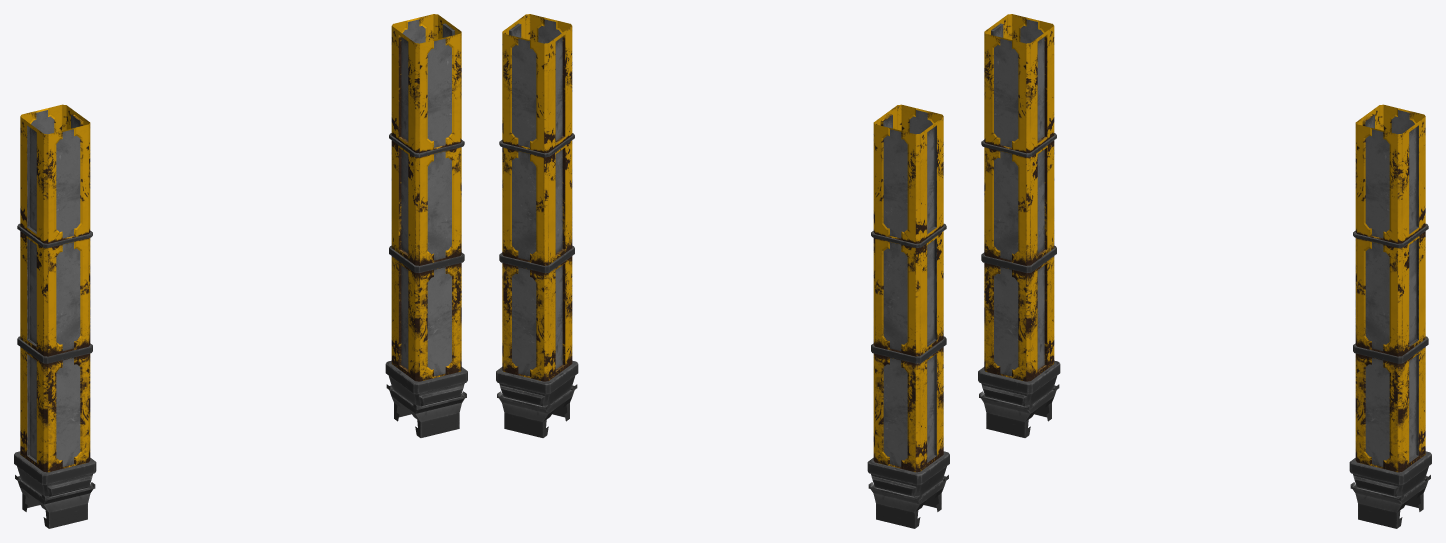
Rendered from CraneSupportBeams.fbx.
The picture shows the model from 3 angles, left to right: view 1: azimuth 30°, elevation 25°; view 2: azimuth 150°, elevation 25°; view 3: azimuth 330°, elevation 25°; orthographic projection.
Visible parts, largest first — view 1: RailBase; view 2: RailBase; view 3: RailBase.
Part boxes in pixels (left/top/right/bottom): RailBase: left=14, top=14, right=467, bottom=528; RailBase: left=496, top=14, right=949, bottom=528; RailBase: left=978, top=14, right=1431, bottom=528.
Size of the model in its own units: 1834 by 1625 by 237.
